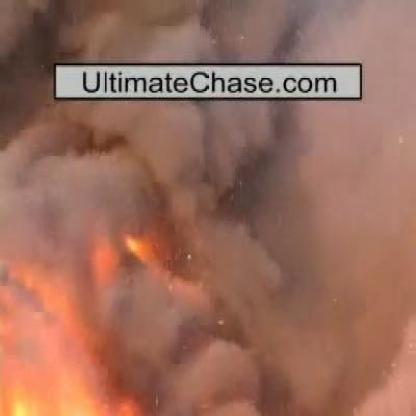-: (21, 104, 368, 328), (18, 0, 354, 57)
